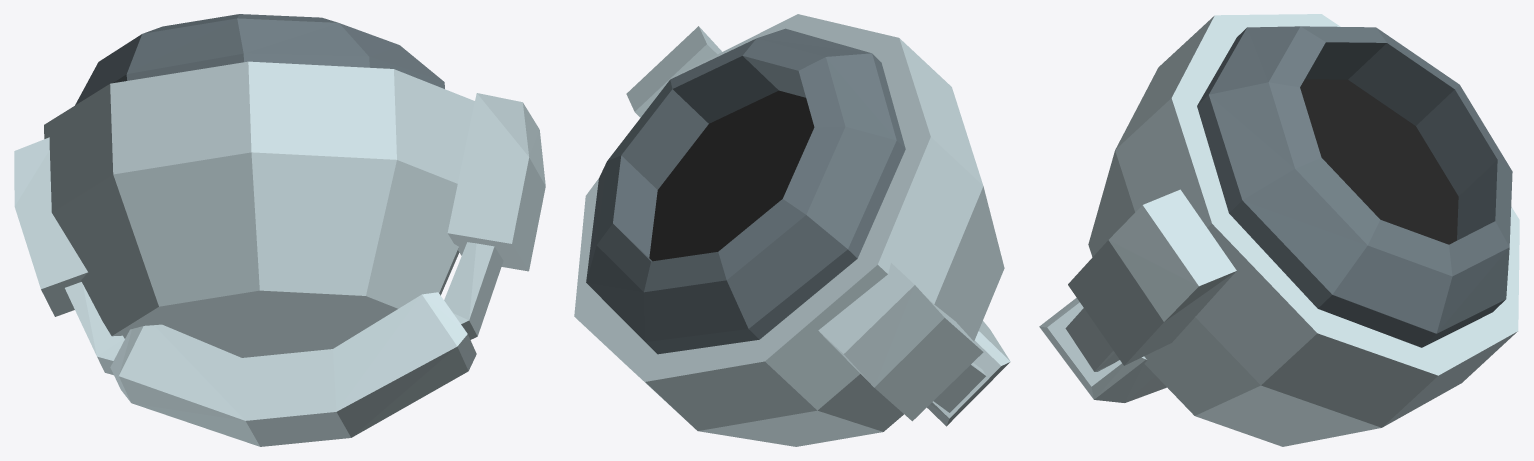
The model's file is lamp.glb.
3 views of the same model, side by side, from view 1: azimuth 30°, elevation 25°; view 2: azimuth 150°, elevation 25°; view 3: azimuth 270°, elevation 25° (orthographic).
Visible parts, largest first — view 1: lamp; view 2: lamp; view 3: lamp.
Part boxes in pixels (x1,y1,x2,y2): lamp: [14, 14, 545, 446]; lamp: [574, 14, 1010, 446]; lamp: [1039, 14, 1519, 446].
Size of the model in its own units: 0.2735 by 0.2319 by 0.2636.
